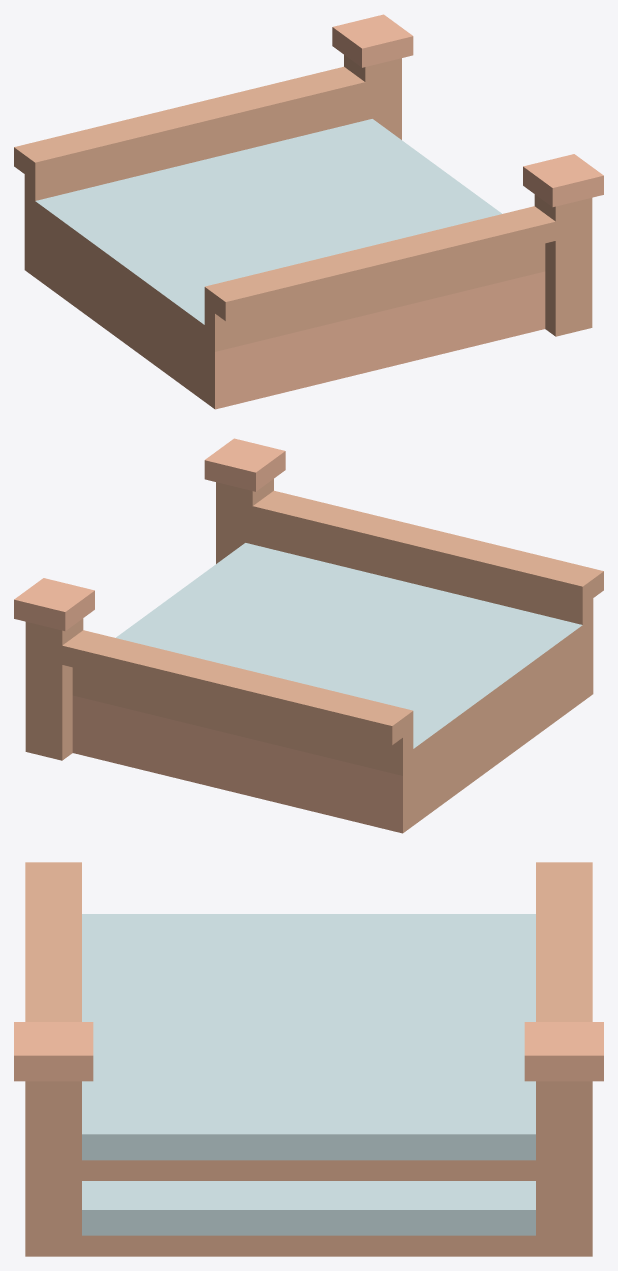
Rendered from bridge_side_wood.gltf.
3 views of the same model, one above another, from view 1: azimuth 30°, elevation 25°; view 2: azimuth 150°, elevation 25°; view 3: azimuth 270°, elevation 25° (orthographic). The views are drawn at different scales.
Visible parts, largest first — view 1: bridge_side_wood; view 2: bridge_side_wood; view 3: bridge_side_wood.
Part boxes in pixels (bbox=[...]): bridge_side_wood: bbox=[14, 14, 603, 409]; bridge_side_wood: bbox=[14, 438, 603, 833]; bridge_side_wood: bbox=[14, 862, 603, 1256].
Size of the model in its own units: 1.02 by 0.4 by 1.04.
